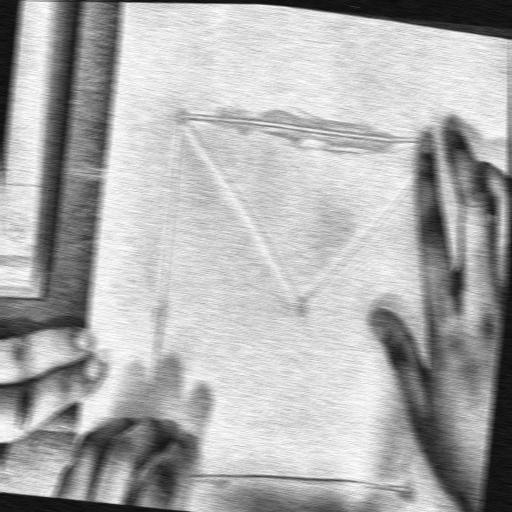envelop: (134, 100, 454, 512)
